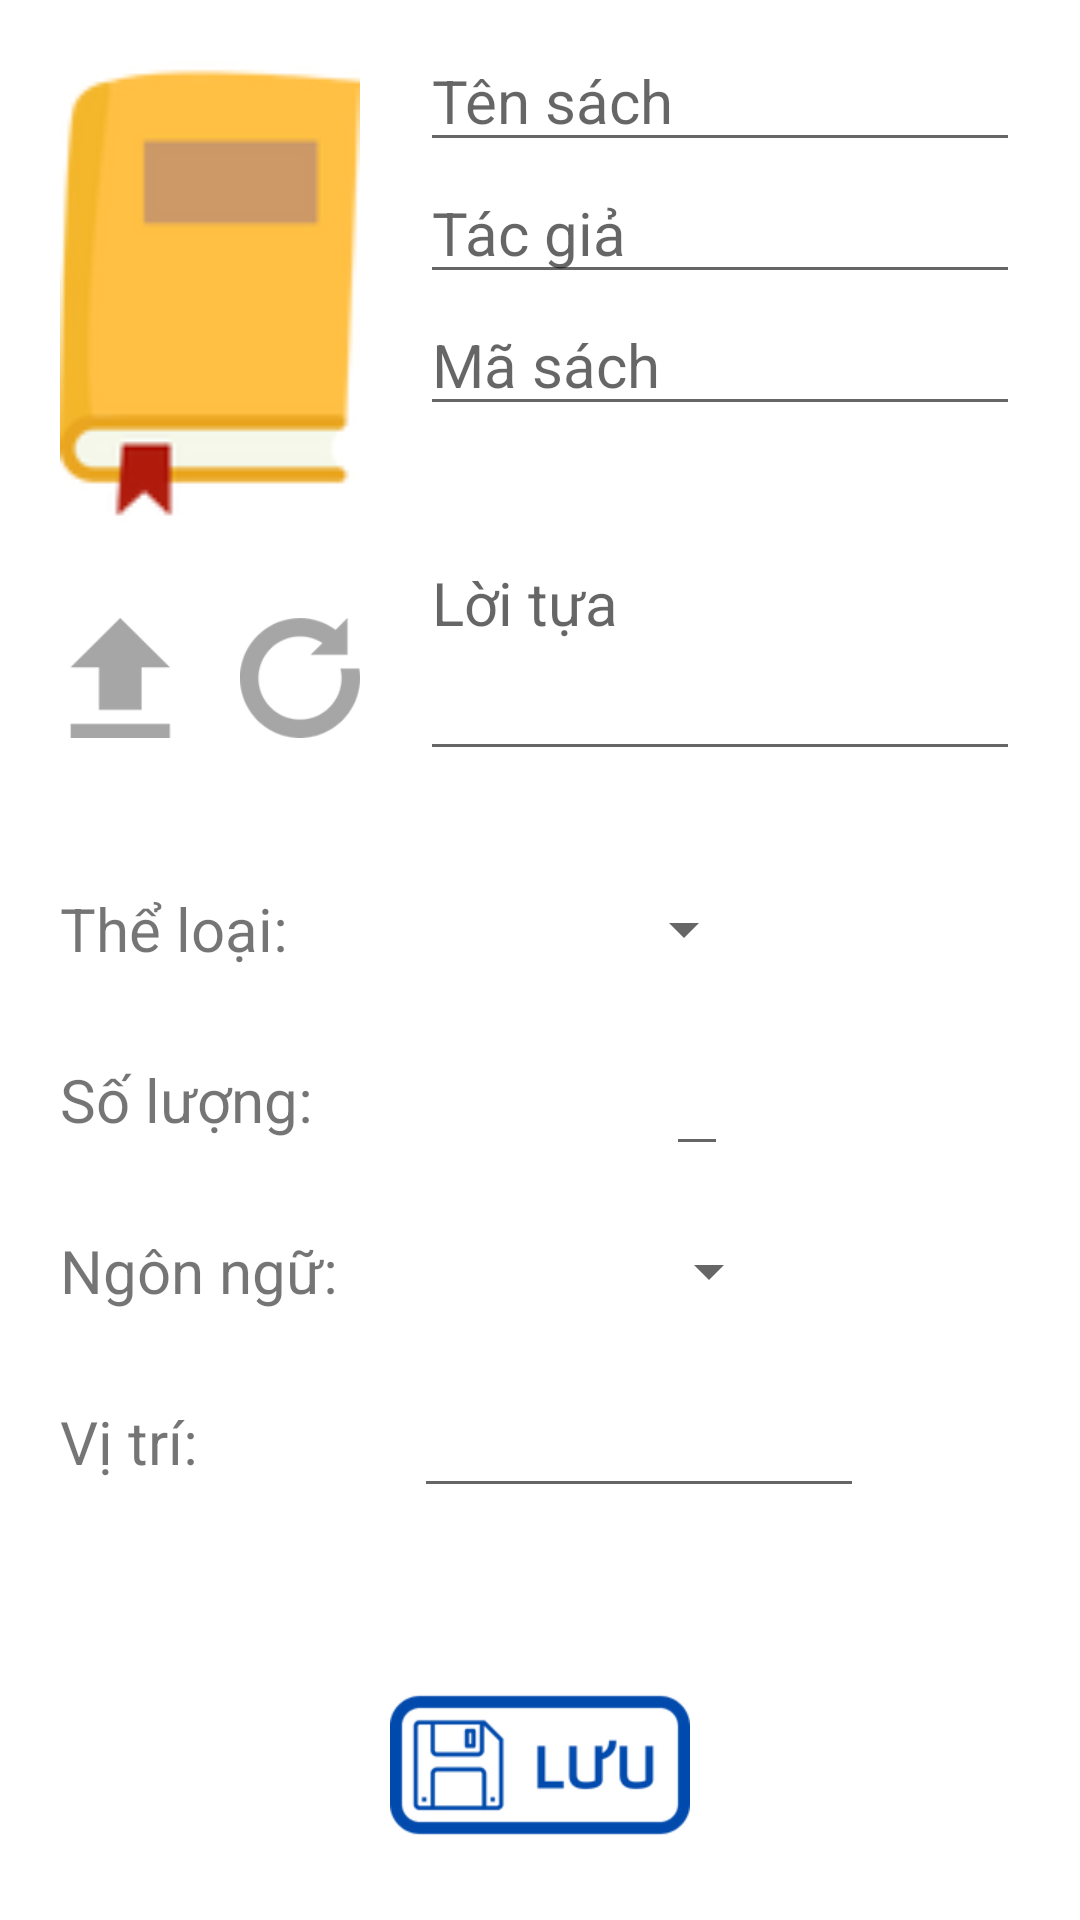

Icon click points for this 1080x1920 phone screenshot, format (x,y):
reload: (300,678)
upload: (120,678)
